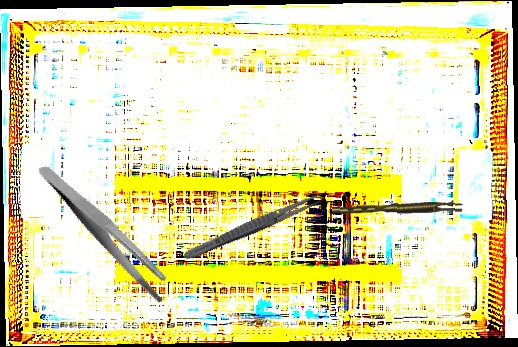Dressing Forceps: (35, 139, 177, 325), (180, 187, 329, 265)
Tissue Forceps: (332, 200, 463, 216)
